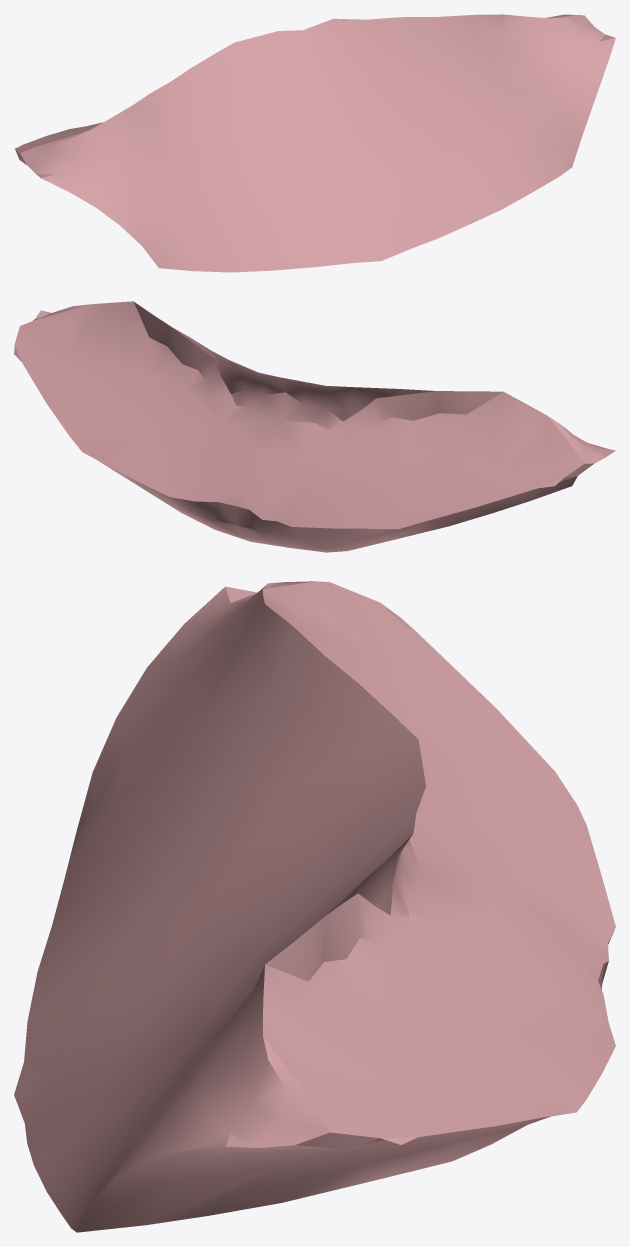
File: fma78458_mm3060.glb
3 renders of one model, top to bottom at view 1: azimuth 30°, elevation 25°; view 2: azimuth 150°, elevation 25°; view 3: azimuth 270°, elevation 25°, orthographic. The views are drawn at different scales.
Parts seen in each view (by area): view 1: FMA78458_MM3060; view 2: FMA78458_MM3060; view 3: FMA78458_MM3060.
Boxes of the visible parts, left/top/right/bottom form: FMA78458_MM3060: left=15, top=14, right=615, bottom=272; FMA78458_MM3060: left=14, top=301, right=615, bottom=552; FMA78458_MM3060: left=14, top=581, right=615, bottom=1232.
Bounding box in the file's own units: 0.00643 × 0.00167 × 0.00292.
